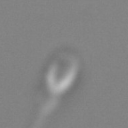normal: (26, 93, 58, 128)
